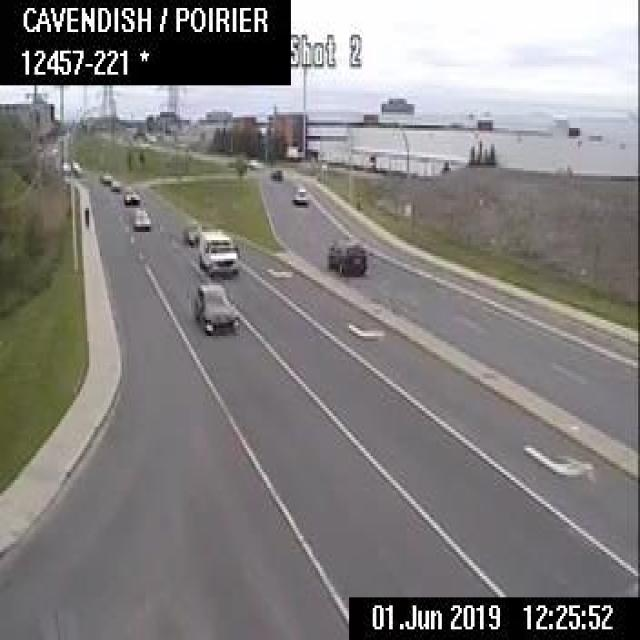pedestrian: (83, 206, 88, 227)
vehicle: (195, 280, 238, 333), (198, 230, 238, 275), (326, 232, 366, 277), (183, 219, 201, 243), (132, 207, 149, 230), (292, 185, 306, 205), (123, 186, 139, 202), (269, 165, 281, 180), (109, 178, 120, 190), (101, 171, 112, 181)
